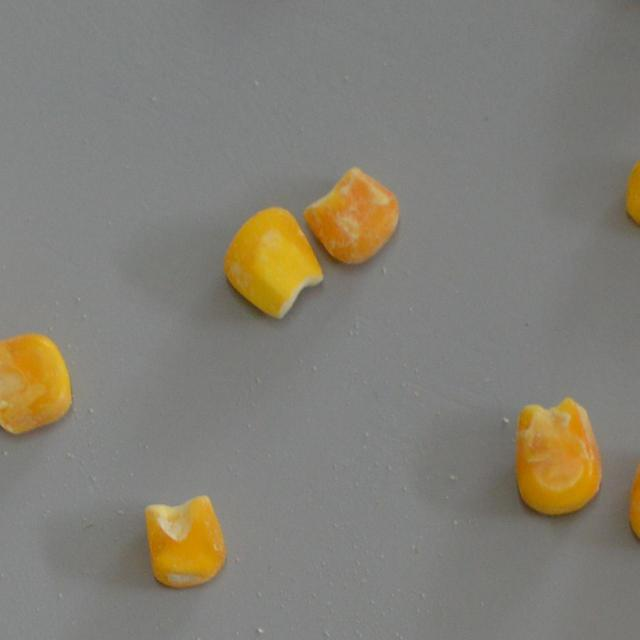no_canjicado: (224, 206, 322, 319), (623, 146, 640, 239)
pelicula: (515, 395, 600, 516), (302, 164, 400, 266), (143, 494, 226, 587), (0, 332, 72, 433), (628, 440, 640, 552)
